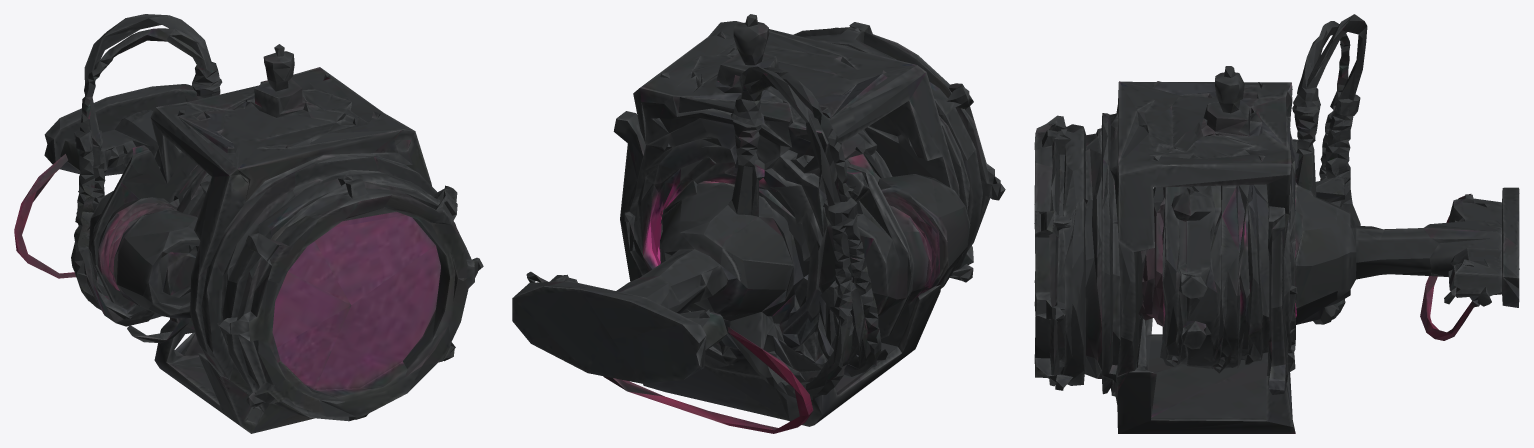
The model's file is mx_part_core.glb.
The picture shows the model from 3 angles, left to right: view 1: azimuth 30°, elevation 25°; view 2: azimuth 150°, elevation 25°; view 3: azimuth 270°, elevation 25°; orthographic projection. The views are drawn at different scales.
Bounding box in the file's own units: 1.35 × 1.49 × 1.9.
Materials: 1 (1 with a texture image).
